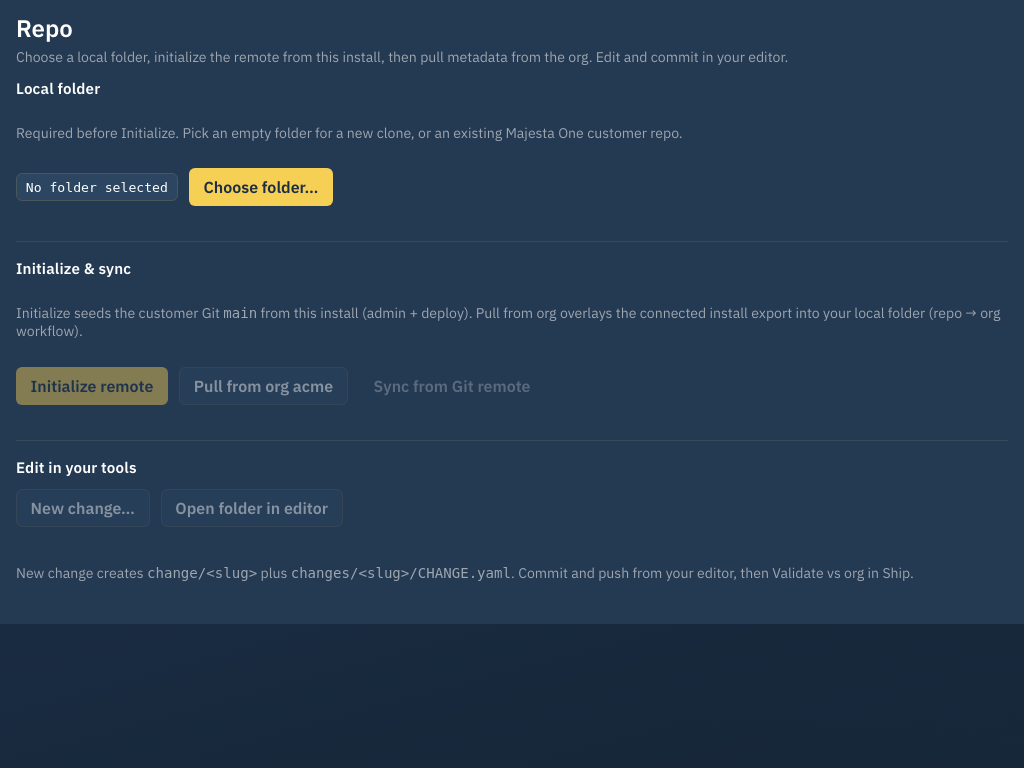
Test: RepoPanel › chooses a local folder via Electron dialog and saves path
Click the button with test id "repo-browse": x=261, y=187 [189, 168, 333, 206]
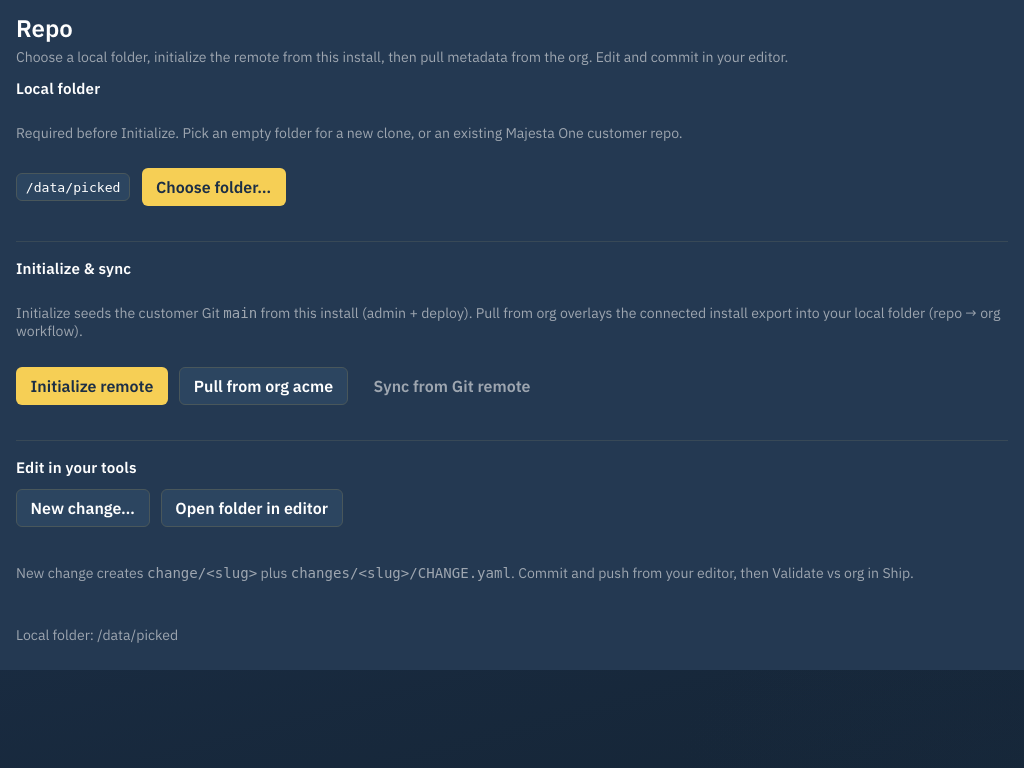
Result: the text with test id "repo-path-display" reads "/data/picked" at [26, 180, 120, 195]
